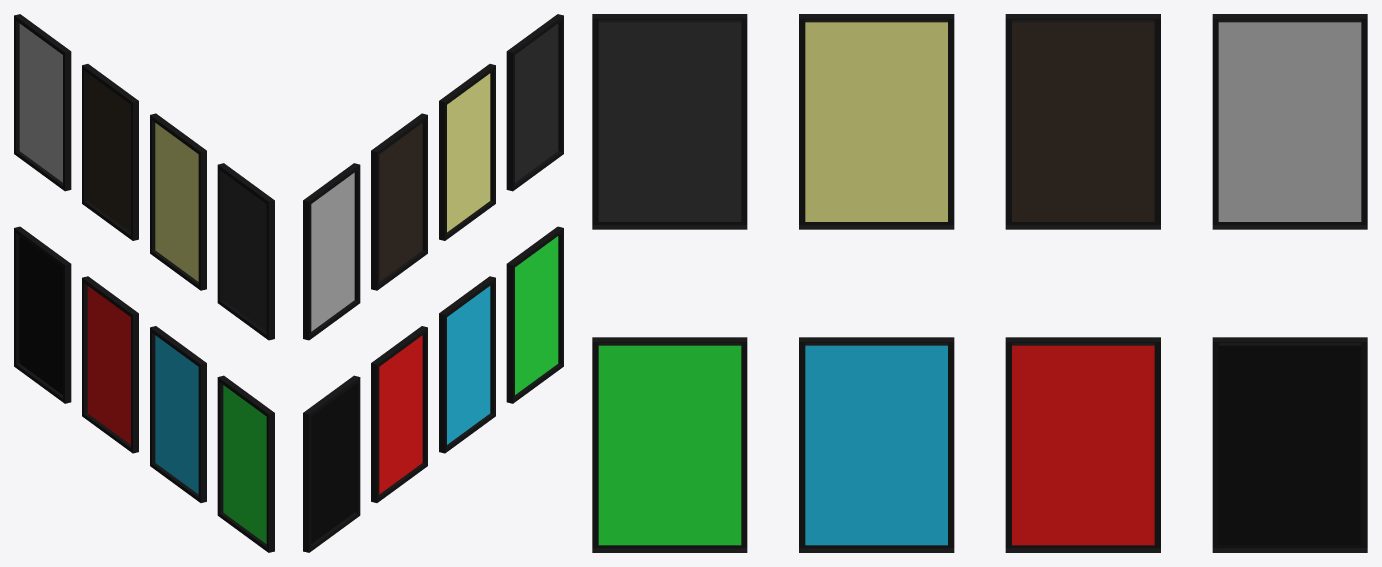
File: MSH_Cuadros_Ninos.FBX
The picture shows the model from 3 angles, left to right: view 1: azimuth 30°, elevation 25°; view 2: azimuth 150°, elevation 25°; view 3: azimuth 270°, elevation 25°; orthographic projection. The views are drawn at different scales.
Visible parts, largest first — view 1: MSH_Cuadros_Ninos; view 2: MSH_Cuadros_Ninos; view 3: MSH_Cuadros_Ninos.
Boxes of the visible parts, bbox=[...] form: MSH_Cuadros_Ninos: bbox=[14, 14, 274, 552]; MSH_Cuadros_Ninos: bbox=[303, 14, 563, 552]; MSH_Cuadros_Ninos: bbox=[592, 14, 1367, 552].
Bounding box in the file's own units: 3.53 × 190 × 250.
